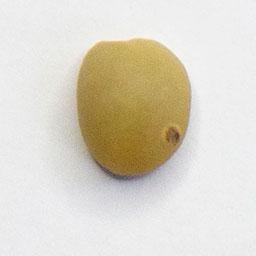defect: (71, 33, 196, 182)
